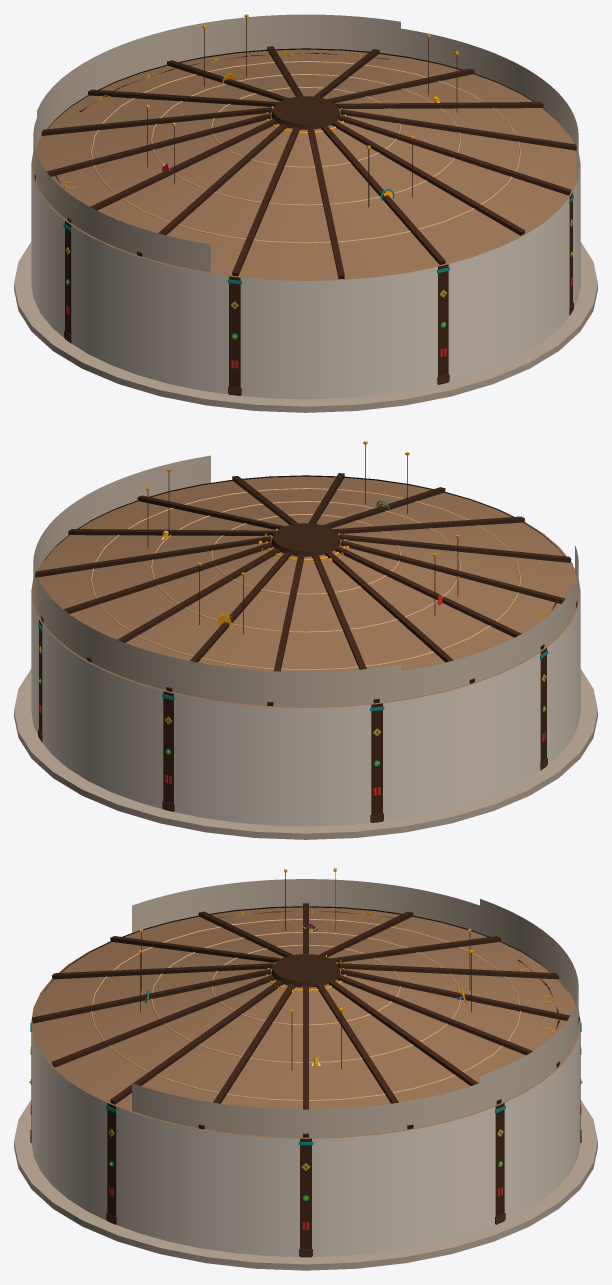
Rendered from museo_wixarika_v14.glb.
3 views of the same model, one above another, from view 1: azimuth 30°, elevation 25°; view 2: azimuth 150°, elevation 25°; view 3: azimuth 270°, elevation 25° (orthographic).
Parts seen in each view (by area): view 1: superficie_domo_conico, muro_cilindrico, cuadrante_deidades, suelo_principal, cuadrante_fiestas_patronales, cuadrante_gastronomia, anillo_oculo, viga_radial_3, viga_radial_2, viga_radial_4, viga_radial_12, aro_otate_techo_1 (+17 smaller); view 2: superficie_domo_conico, muro_cilindrico, cuadrante_deidades, suelo_principal, cuadrante_fiestas_patronales, cuadrante_gastronomia, anillo_oculo, viga_radial_6, viga_radial_14, aro_otate_techo_1, viga_radial_15, viga_radial_7 (+17 smaller); view 3: superficie_domo_conico, muro_cilindrico, suelo_principal, cuadrante_gastronomia, cuadrante_fiestas_patronales, cuadrante_deidades, anillo_oculo, viga_radial_2, viga_radial_1, viga_radial_9, viga_radial_3, aro_otate_techo_1 (+17 smaller).
Part boxes in pixels (box(x1,y1,x2,y2)): superficie_domo_conico: box(31, 49, 580, 280); muro_cilindrico: box(31, 167, 580, 399); cuadrante_deidades: box(37, 14, 400, 144); suelo_principal: box(14, 242, 597, 412); cuadrante_fiestas_patronales: box(33, 118, 210, 272); cuadrante_gastronomia: box(401, 28, 578, 182); anillo_oculo: box(271, 96, 340, 129); viga_radial_3: box(339, 115, 571, 195); viga_radial_2: box(332, 120, 524, 235); viga_radial_4: box(340, 109, 576, 150); viga_radial_12: box(34, 113, 271, 180); aro_otate_techo_1: box(90, 61, 521, 243); superficie_domo_conico: box(31, 476, 580, 707); muro_cilindrico: box(31, 594, 580, 826); cuadrante_deidades: box(37, 576, 400, 706); suelo_principal: box(14, 669, 597, 839); cuadrante_fiestas_patronales: box(401, 545, 578, 699); cuadrante_gastronomia: box(33, 455, 210, 609); anillo_oculo: box(271, 523, 340, 556); viga_radial_6: box(35, 536, 271, 577); viga_radial_14: box(340, 540, 577, 607); aro_otate_techo_1: box(90, 488, 521, 670); viga_radial_15: box(339, 534, 571, 562); viga_radial_7: box(40, 542, 272, 622); superficie_domo_conico: box(31, 907, 580, 1138); muro_cilindrico: box(31, 1027, 580, 1256); suelo_principal: box(14, 1100, 597, 1270); cuadrante_gastronomia: box(132, 1083, 479, 1137); cuadrante_fiestas_patronales: box(132, 879, 479, 932); cuadrante_deidades: box(480, 899, 578, 1110); anillo_oculo: box(271, 954, 340, 987); viga_radial_2: box(52, 975, 274, 1067); viga_radial_1: box(32, 969, 270, 1023); viga_radial_9: box(341, 969, 579, 1023); viga_radial_3: box(110, 980, 283, 1104); aro_otate_techo_1: box(90, 919, 521, 1101).
Size of what is drawn, in the model's own units: 17 by 6.69 by 17.
